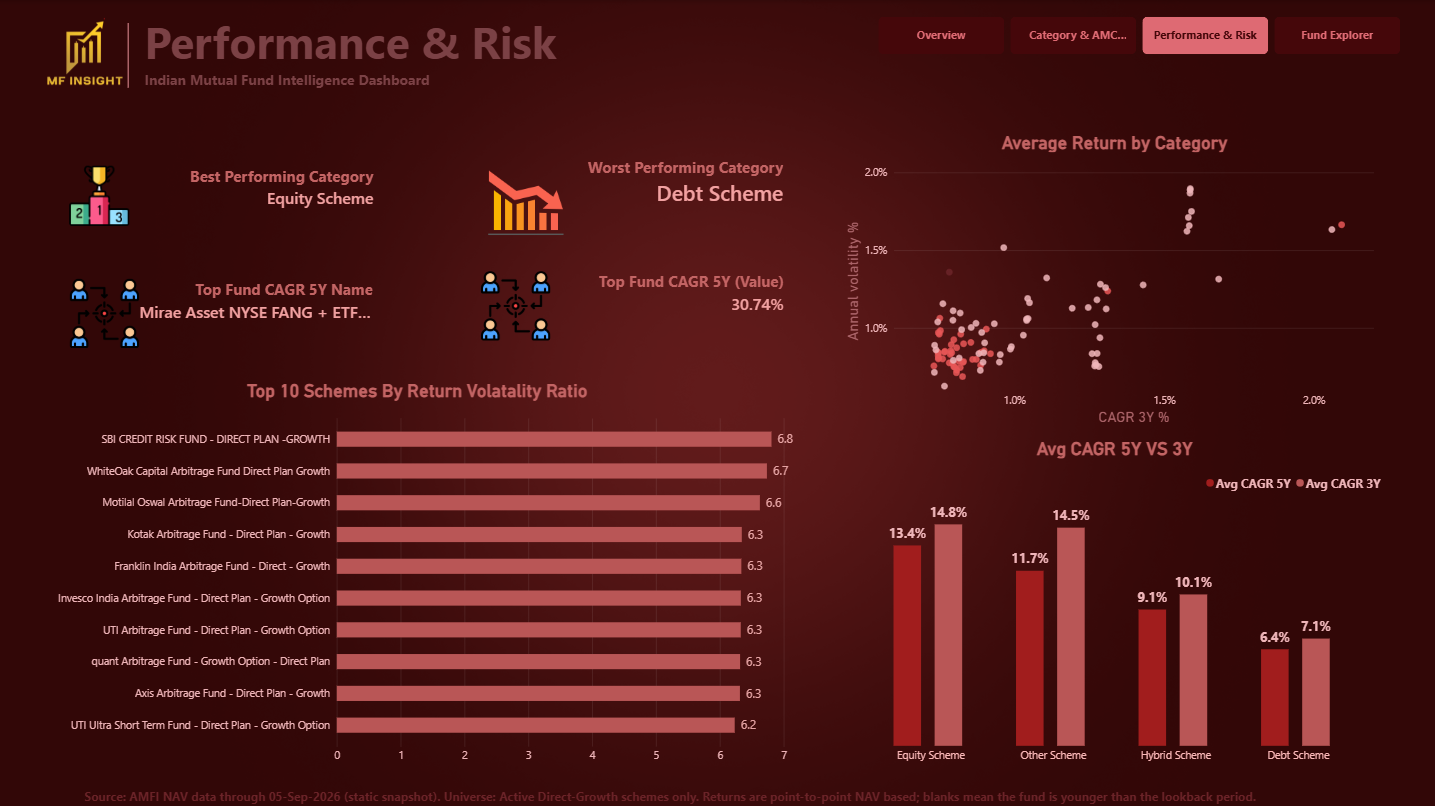

The page's visual inventory and layout, read from the dashboard file:
{"tool":"powerbi","page":{"name":"Performance & Risk","canvas":[1920,1080],"ordinal":2},"visuals":[{"type":"cardVisual","fields":{"Data":["Table.Best Performing Category (CAGR 3Y)"]},"box":[80,202,438,126],"z":0},{"type":"image","box":[43.3,23.3,146,94],"z":1000},{"type":"shape","box":[56.7,33.3,236.7,86.7],"z":2000},{"type":"textbox","box":[196.7,0,894,152],"z":3000},{"type":"scatterChart","title":"Average Return by Category","fields":{"X":["Sum(processed.cagr_3y)"],"Y":["Sum(processed.annualized_volatility)"],"Category":["processed.scheme_name"],"Series":["processed.category_group_clean"]},"box":[1130,179.1,720.4,391.1],"z":4000},{"type":"clusteredColumnChart","title":"Avg CAGR 5Y VS 3Y","fields":{"Category":["processed.category_group_clean"],"Y":["Table.Avg CAGR 5Y","Table.Avg CAGR 3Y"]},"box":[1130,586.6,720.4,438.4],"z":5000},{"type":"cardVisual","fields":{"Data":["Table.Worst Performing Category (CAGR 3Y)"]},"box":[628,204,436,140],"z":6000},{"type":"cardVisual","fields":{"Data":["Table.Top Fund CAGR 5Y (Name)"]},"box":[80.3,354,438.4,137.9],"z":7000},{"type":"cardVisual","fields":{"Data":["Table.Top Fund CAGR 5Y (Value)"]},"box":[627.8,343.7,438.4,137.9],"z":8000},{"type":"clusteredBarChart","title":"Top 10 Schemes By Return Volatality Ratio","fields":{"Y":["processed.Top 10 by Return Volatility Ratio"],"Category":["processed.scheme_name"]},"box":[55.6,510.5,1010.6,514.6],"z":9000},{"type":"textbox","box":[116.7,1053.3,1650,26],"z":9001},{"type":"pageNavigator","box":[1175,25,698,50],"z":9002}]}

Visuals, with their boxes in screenshot pixels (x1, y1, x2, y2), scaled from the page's 1920x1080 canvas onto the 1435x806 screenshot:
cardVisual - Table.Best Performing Category (CAGR 3Y): region(60, 151, 387, 245)
image: region(32, 17, 141, 88)
shape: region(42, 25, 219, 90)
textbox: region(147, 0, 815, 113)
"Average Return by Category" scatterChart: region(845, 134, 1383, 426)
"Avg CAGR 5Y VS 3Y" clusteredColumnChart: region(845, 438, 1383, 765)
cardVisual - Table.Worst Performing Category (CAGR 3Y): region(469, 152, 795, 257)
cardVisual - Table.Top Fund CAGR 5Y (Name): region(60, 264, 388, 367)
cardVisual - Table.Top Fund CAGR 5Y (Value): region(469, 257, 797, 359)
"Top 10 Schemes By Return Volatality Ratio" clusteredBarChart: region(42, 381, 797, 765)
textbox: region(87, 786, 1320, 805)
pageNavigator: region(878, 19, 1400, 56)
